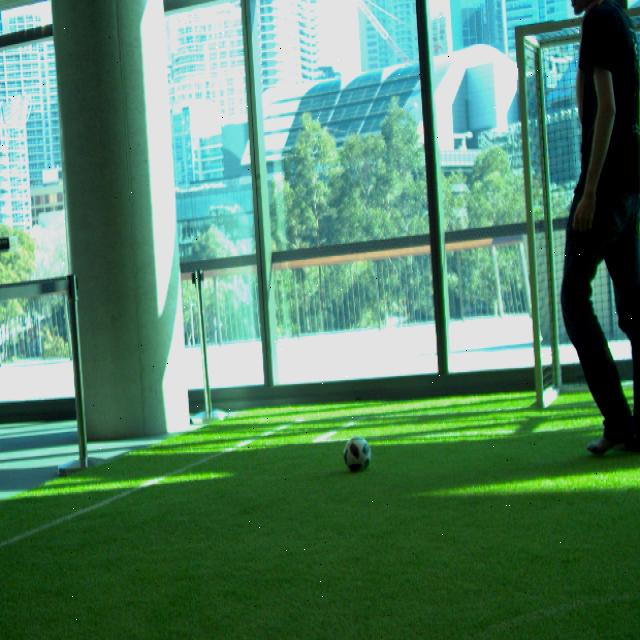ball: (344, 436, 372, 472)
goalpost: (515, 25, 545, 411)
